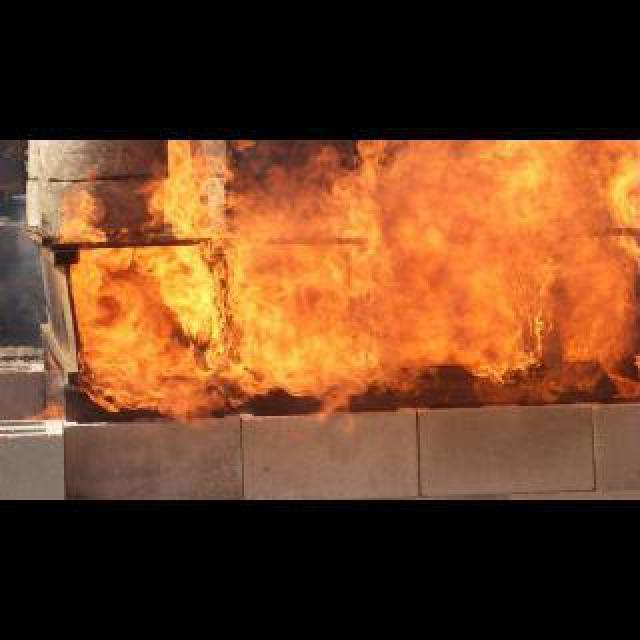Fire: (50, 142, 636, 428)
